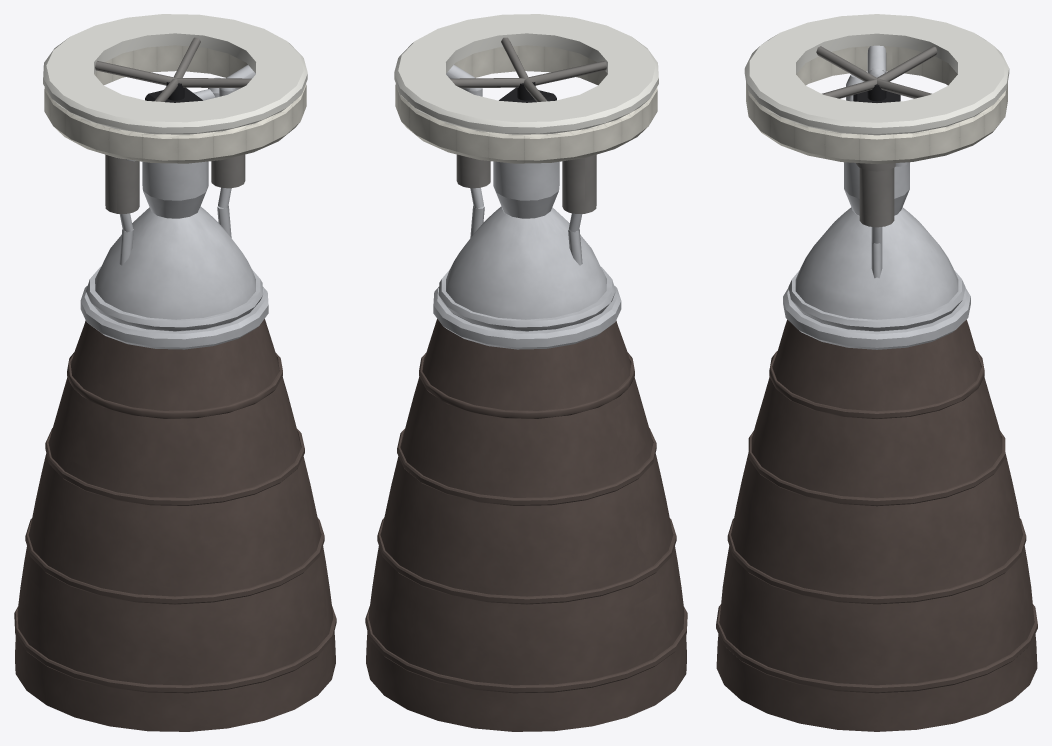
Rendered from ax_prop_01_methalox_vacuum.glb.
3 renders of one model, left to right at view 1: azimuth 30°, elevation 25°; view 2: azimuth 150°, elevation 25°; view 3: azimuth 270°, elevation 25°, orthographic.
Parts seen in each view (by area): view 1: nozzle_extension, mount_ring, regen_nozzle, thermal_blanket_ring, extension_hoops, joint_flange, chamber, turbopumps, regen_manifold, thrust_struts, plumbing, gimbal; view 2: nozzle_extension, mount_ring, regen_nozzle, thermal_blanket_ring, extension_hoops, joint_flange, chamber, turbopumps, regen_manifold, thrust_struts, plumbing, gimbal; view 3: nozzle_extension, mount_ring, regen_nozzle, extension_hoops, thermal_blanket_ring, joint_flange, regen_manifold, turbopumps, thrust_struts, chamber, plumbing, gimbal.
Boxes of the visible parts, <box> form: nozzle_extension: <box>15,319,335,731</box>; mount_ring: <box>43,14,307,134</box>; regen_nozzle: <box>95,206,255,331</box>; thermal_blanket_ring: <box>44,45,306,163</box>; extension_hoops: <box>14,352,336,693</box>; joint_flange: <box>80,286,268,349</box>; chamber: <box>142,161,208,218</box>; turbopumps: <box>105,154,245,213</box>; regen_manifold: <box>86,267,263,331</box>; thrust_struts: <box>95,37,251,101</box>; plumbing: <box>119,65,255,265</box>; gimbal: <box>145,82,202,102</box>; nozzle_extension: <box>366,319,686,731</box>; mount_ring: <box>394,14,658,134</box>; regen_nozzle: <box>446,206,606,331</box>; thermal_blanket_ring: <box>395,45,657,163</box>; extension_hoops: <box>365,352,687,693</box>; joint_flange: <box>433,286,621,349</box>; chamber: <box>493,161,559,218</box>; turbopumps: <box>456,154,596,213</box>; regen_manifold: <box>438,267,615,331</box>; thrust_struts: <box>450,37,606,101</box>; plumbing: <box>446,65,582,265</box>; gimbal: <box>499,82,556,102</box>; nozzle_extension: <box>716,319,1037,731</box>; mount_ring: <box>744,14,1009,135</box>; regen_nozzle: <box>795,207,958,331</box>; extension_hoops: <box>716,351,1037,693</box>; thermal_blanket_ring: <box>746,46,1007,164</box>; joint_flange: <box>783,287,970,349</box>; regen_manifold: <box>788,270,965,331</box>; turbopumps: <box>856,163,895,227</box>; thrust_struts: <box>816,46,937,98</box>; chamber: <box>844,162,909,215</box>; plumbing: <box>848,45,886,278</box>; gimbal: <box>853,84,900,102</box>.
Size of the model in its own units: 2.43 by 4.97 by 2.43.
6 materials, 4 textured.
